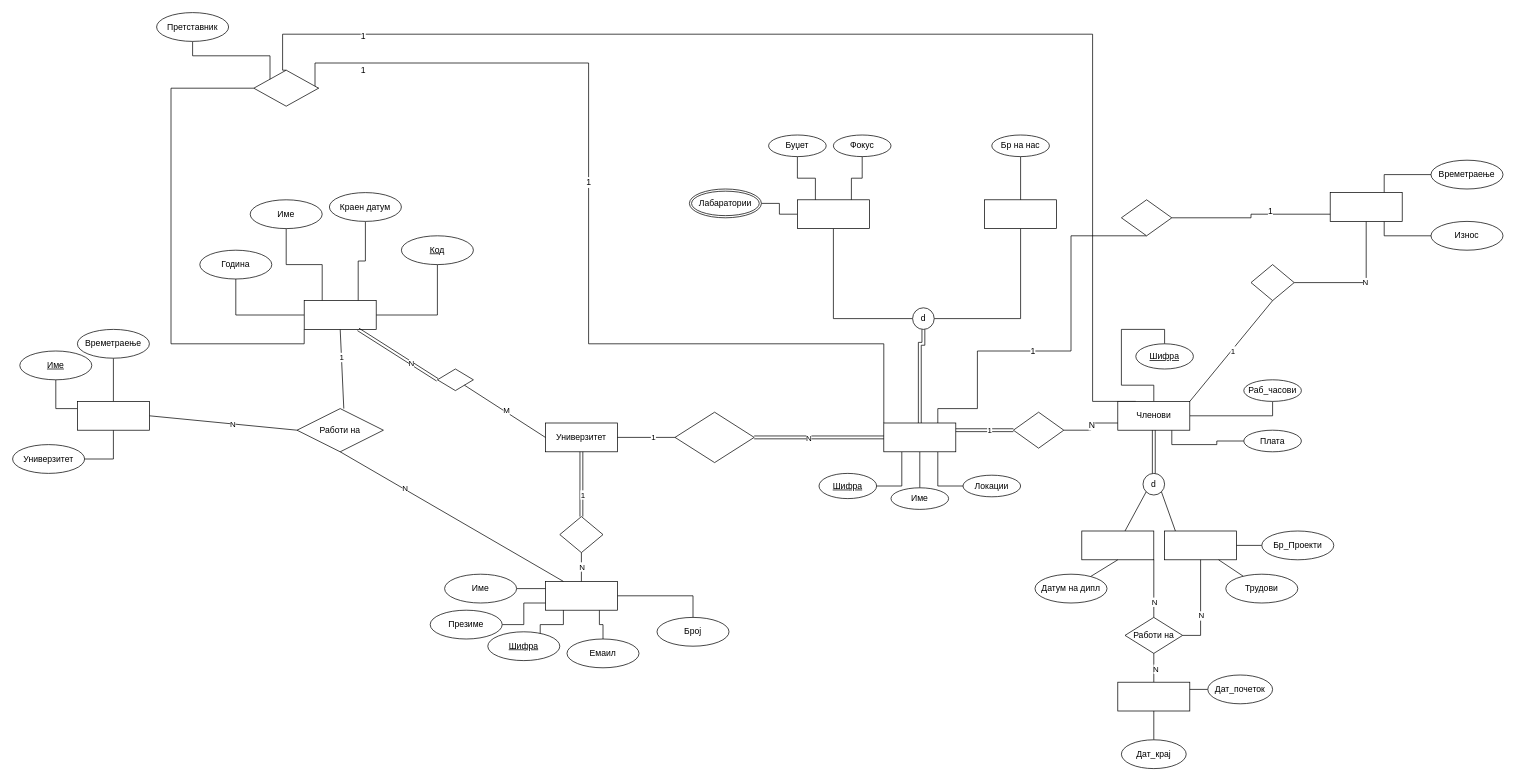
Image size: 1516x781. Some labels were removed from this diagram. The centre of each missing label's shape, as x and y in pixels:
"Relationship" goes at point 1038,429.
"Асистенти" goes at point 1117,545.
"Грант" goes at point 1365,206.
"Институт" goes at point 919,437.
"Курс" goes at point 1153,696.
"Мрежи" goes at point 339,314.
"Општествени науки" goes at point 1020,214.
"Природни науки" goes at point 833,214.
"Проект" goes at point 113,415.
"Професори" goes at point 1200,545.
"Се состои од" goes at point 714,437.
"Студенти" goes at point 581,595.
"учествува" goes at point 286,87.
"Учи_во" goes at point 581,534.
